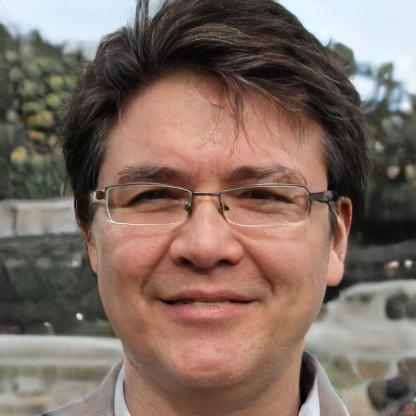glasses: (92, 176, 331, 235)
